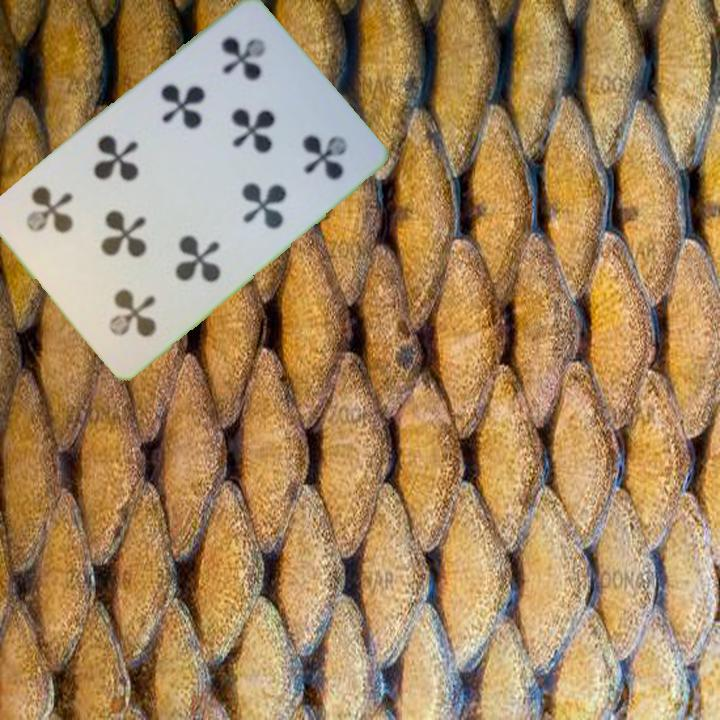c_10.png: (181, 9, 309, 139), (62, 234, 190, 363)
